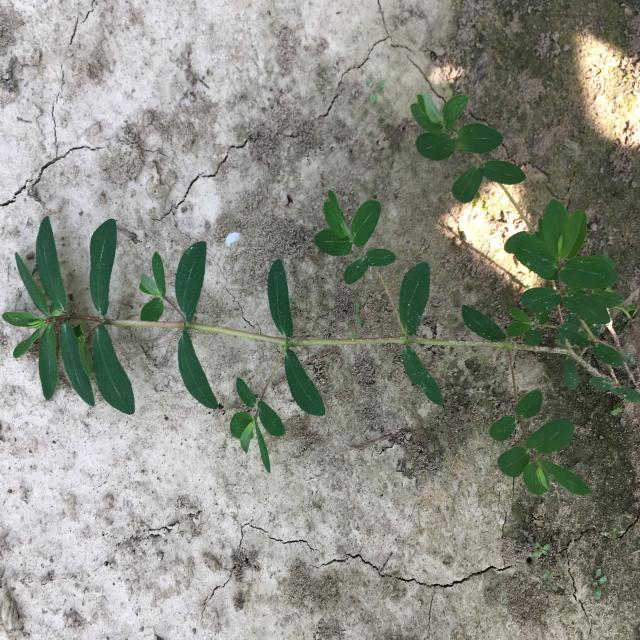SpottedSpurge: (1, 93, 640, 495)
